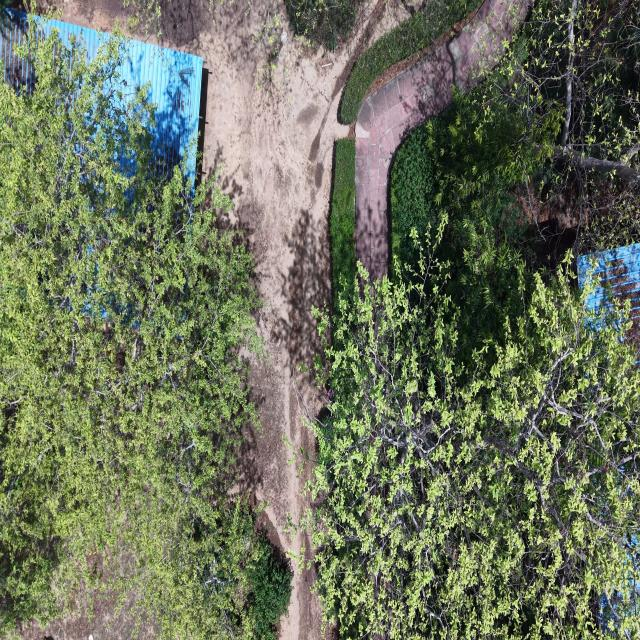DRY_AREA: (162, 0, 408, 551), (174, 0, 407, 551), (194, 5, 357, 553), (187, 5, 344, 552), (355, 0, 528, 279), (361, 6, 479, 106), (17, 596, 155, 639)
ROOFTOP_BUILDING: (118, 40, 206, 183), (578, 244, 639, 346)
VEGETATION_TREE: (302, 0, 639, 639), (303, 0, 639, 639), (0, 25, 290, 638), (304, 110, 639, 638), (306, 245, 639, 638), (391, 2, 639, 264), (392, 0, 639, 252), (391, 94, 547, 362), (477, 0, 639, 251), (487, 0, 639, 179), (390, 94, 538, 266), (340, 0, 480, 123), (341, 0, 479, 123), (341, 0, 477, 123), (355, 0, 472, 91), (389, 127, 437, 263), (229, 0, 291, 94), (248, 531, 292, 639), (330, 139, 355, 297), (285, 0, 361, 50), (252, 3, 286, 94), (123, 0, 170, 40), (0, 0, 10, 11)
